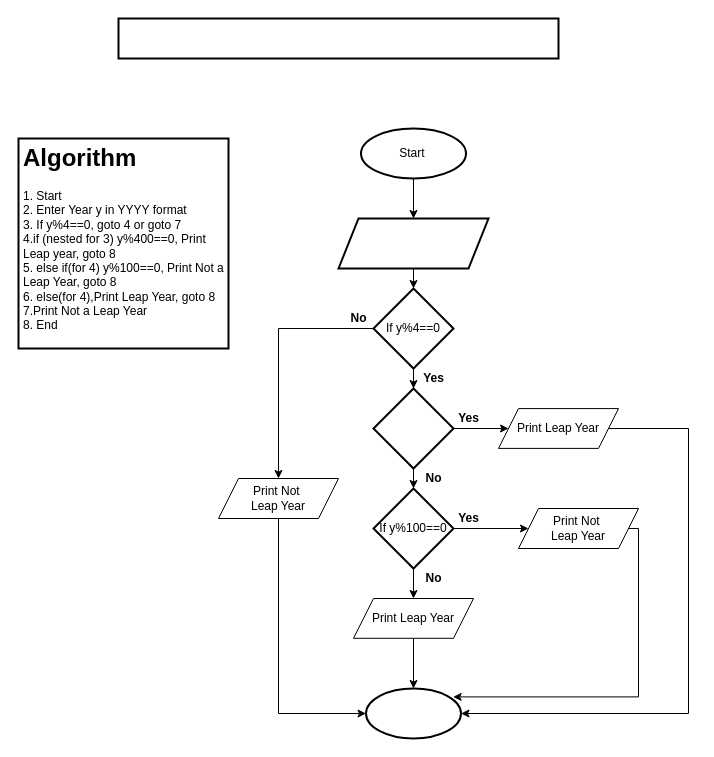
This 714x757 diagram has some shape labels left out. Each missing label, with the centre of its shape:
"Check For Leap Year" goes at [338,38].
"End" goes at [413,713].
"Enter Year y in YYYY format" goes at [413,243].
"If y%400==0" goes at [413,428].
